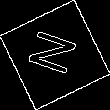N_E: (25, 28, 85, 82)
